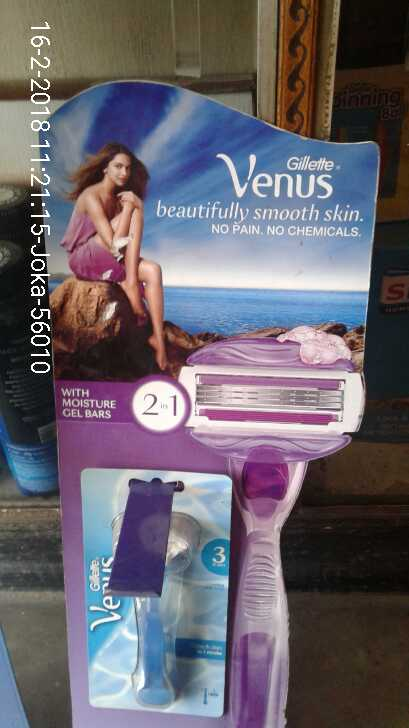venus: (84, 470, 229, 717)
